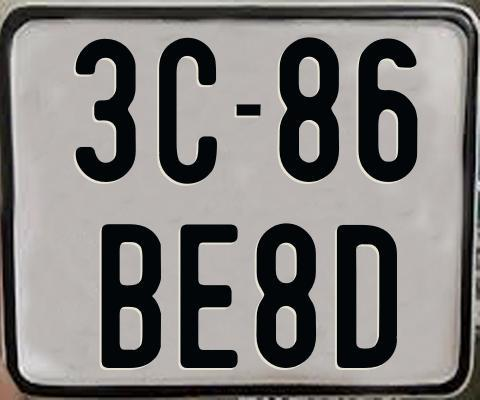3: (76, 38, 139, 184)
6: (358, 37, 424, 187)
8: (278, 36, 340, 184), (255, 221, 315, 369)
B: (101, 223, 162, 372)
C: (157, 38, 218, 184)
D: (335, 225, 397, 368)
E: (178, 224, 240, 369)
